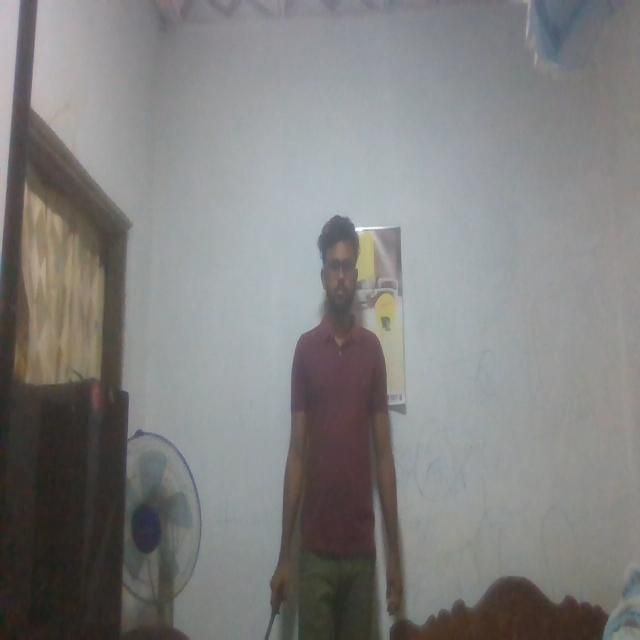Gun_Holder: (261, 568, 287, 637)
Person: (267, 204, 416, 640)
